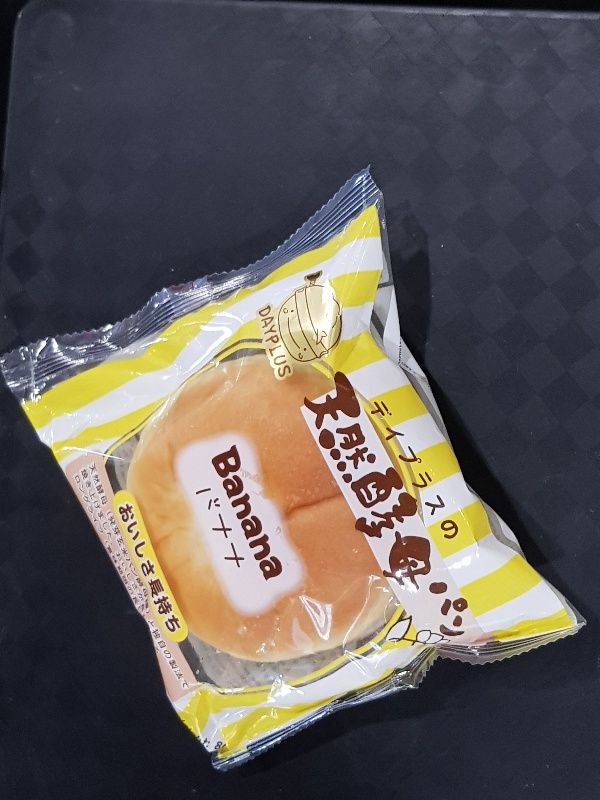Dayplus Banana: (2, 167, 585, 770)
